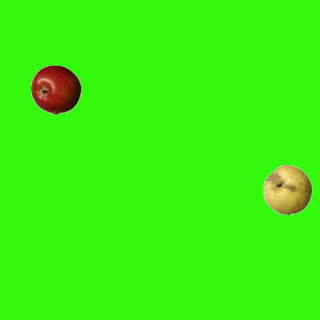Apple Braeburn: (30, 64, 80, 114)
Apple Golden 1: (262, 164, 312, 214)
